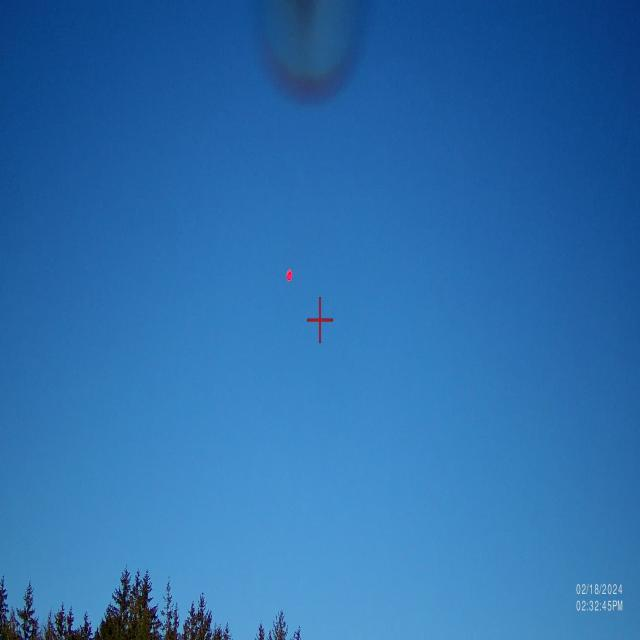entire: (284, 263, 294, 284)
